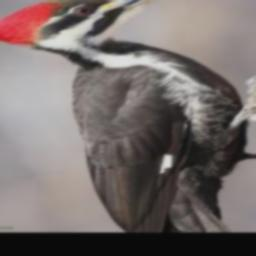Woodpecker: (0, 0, 256, 231)
